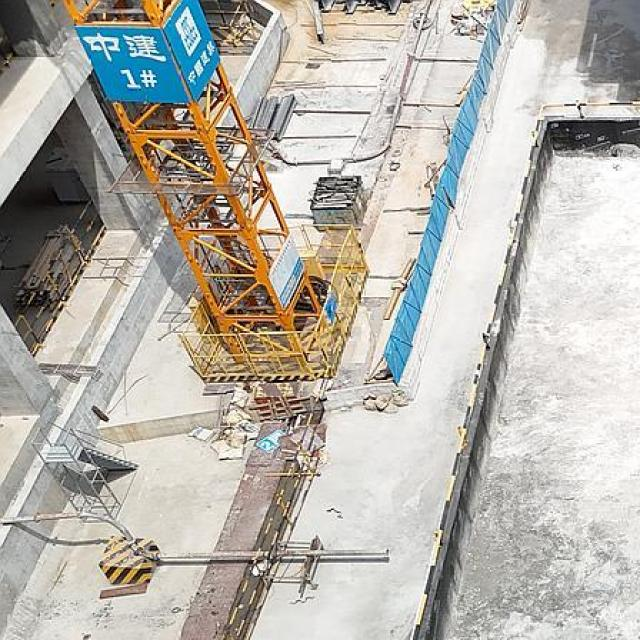edge_guardrail: (410, 100, 640, 640), (13, 197, 106, 356), (199, 0, 251, 30)
